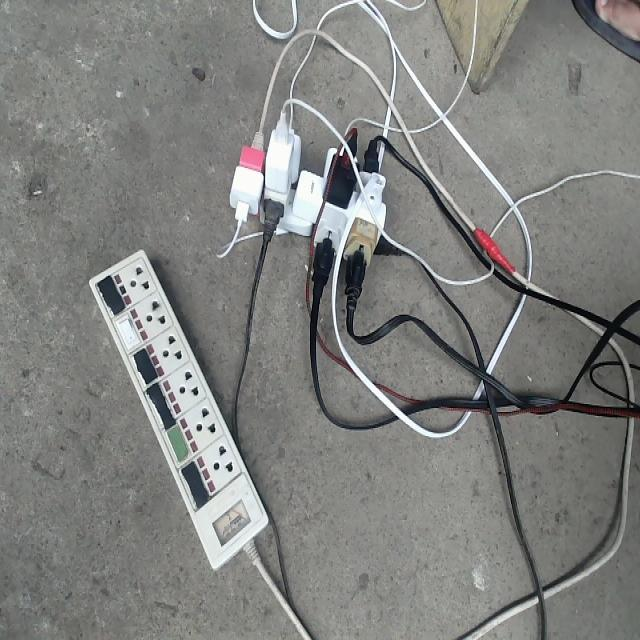-: (226, 101, 385, 311)
